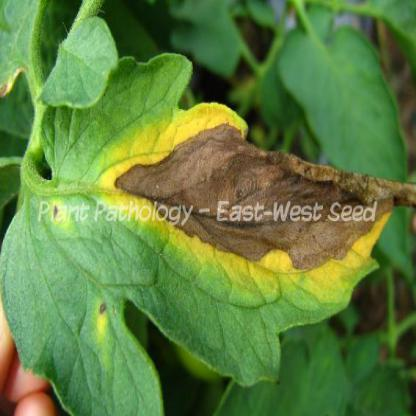Tomato Early blight leaf: (12, 36, 416, 404)
